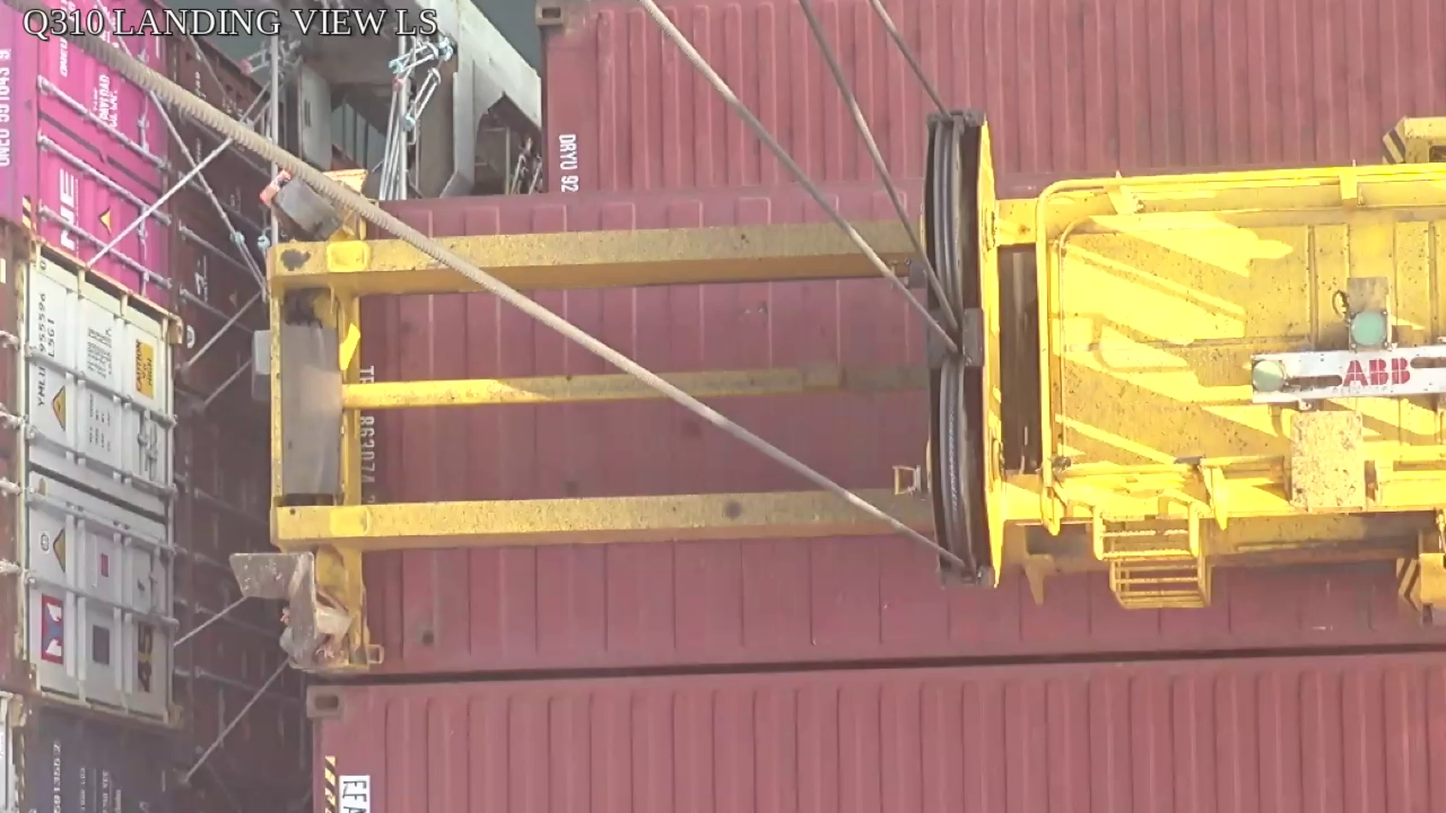aa: (920, 109, 1007, 589)
